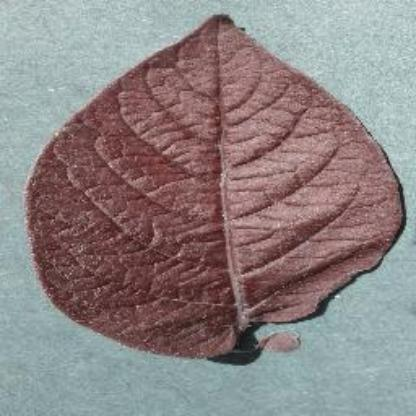Healthy-plant: (24, 12, 409, 368)
